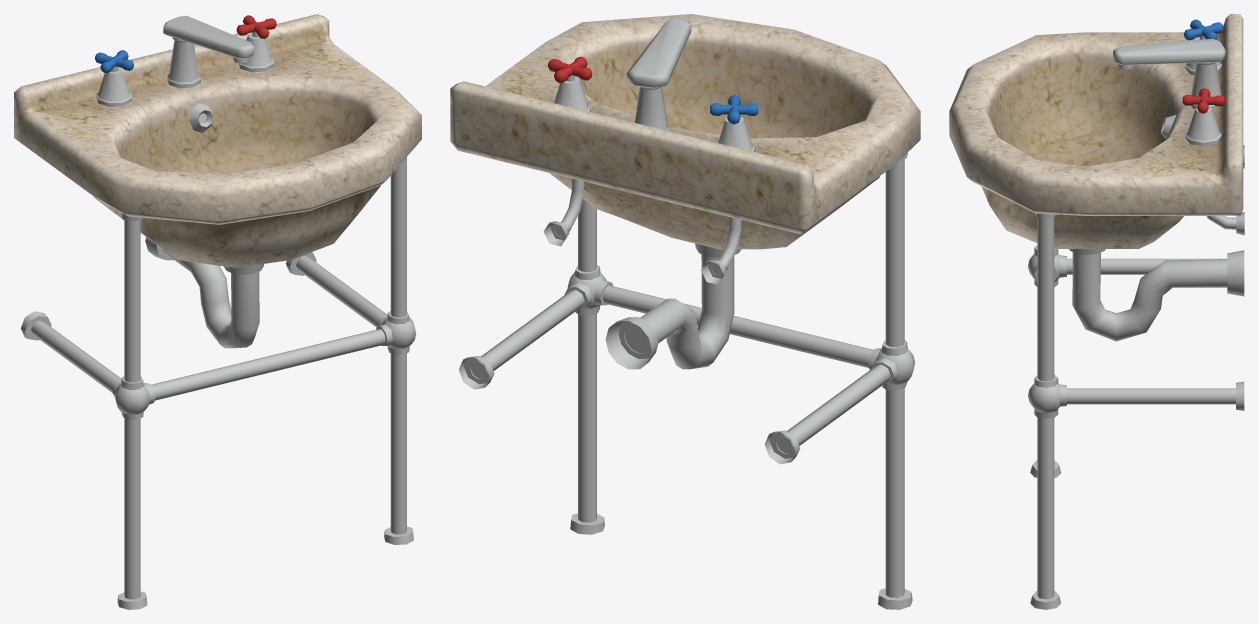
Rendered from Sink_export.fbx.
The picture shows the model from 3 angles, left to right: view 1: azimuth 30°, elevation 25°; view 2: azimuth 150°, elevation 25°; view 3: azimuth 270°, elevation 25°; orthographic projection. The views are drawn at different scales.
Visible parts, largest first — view 1: Sink, Tube_3, Tube_4, Sewerage, Tube_5, Mixer, Tube_1, Tube_2, Support_fix_1, Support_fix_2, Crane_body_cold, Crane_body_hot (+3 smaller); view 2: Sink, Tube_3, Sewerage, Tube_4, Tube_5, Mixer, Tube_2, Tube_1, Support_fix_1, Support_fix_2, Supply_cold, Supply_hot (+6 smaller); view 3: Sink, Sewerage, Tube_4, Mixer, Tube_2, Support_fix_2, Tube_1, Crane_body_hot, Support_fix_1, Lamb_hot, Lamb_cold, Supply_hot.
Part boxes in pixels (x1,y1,x2,y2): Sink: (14,14,421,267); Tube_3: (124,219,140,599); Tube_4: (390,157,406,534); Sewerage: (145,237,263,348); Tube_5: (151,329,385,400); Mixer: (163,16,254,88); Tube_1: (31,320,121,392); Tube_2: (296,256,387,327); Support_fix_1: (112,376,155,419); Support_fix_2: (376,311,416,355); Crane_body_cold: (96,66,132,106); Crane_body_hot: (238,32,274,72); Sink: (450,14,920,249); Tube_3: (885,159,904,597); Sewerage: (605,243,740,369); Tube_4: (578,199,596,522); Tube_5: (602,285,873,367); Mixer: (626,18,691,131); Tube_2: (470,290,584,379); Tube_1: (776,364,890,453); Support_fix_1: (868,340,914,390); Support_fix_2: (564,265,612,315); Supply_cold: (701,217,741,284); Supply_hot: (543,178,583,246); Sink: (949,14,1243,248); Sewerage: (1069,249,1244,341); Tube_4: (1037,217,1054,599); Mixer: (1112,38,1225,109); Tube_2: (1067,388,1235,404); Support_fix_2: (1028,374,1066,418); Tube_1: (1067,258,1226,274); Crane_body_hot: (1185,106,1221,146); Support_fix_1: (1028,245,1066,287); Lamb_hot: (1182,88,1224,113); Lamb_cold: (1184,19,1223,40); Supply_hot: (1206,212,1244,235).
Bounding box in the file's own units: 0.00631 × 0.00964 × 0.00519.
Materials: 1 (1 with a texture image).
